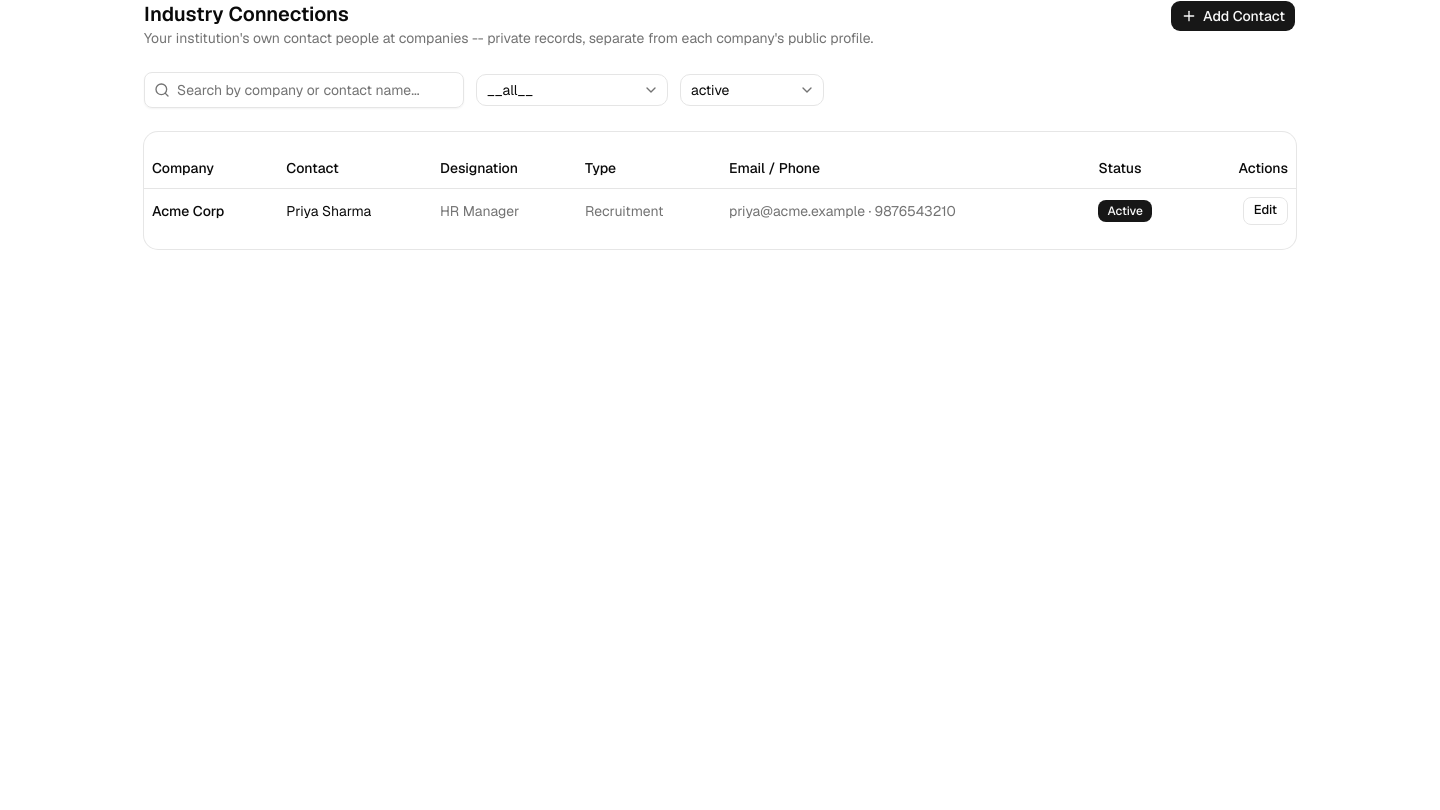
Test: IndustryConnectionsList › opens the edit form for an existing connection
Expected: the text "Priya Sharma" is shown, [278, 188, 432, 232]
Click the button "Edit". click: (1265, 210)
box: [1243, 196, 1288, 224]
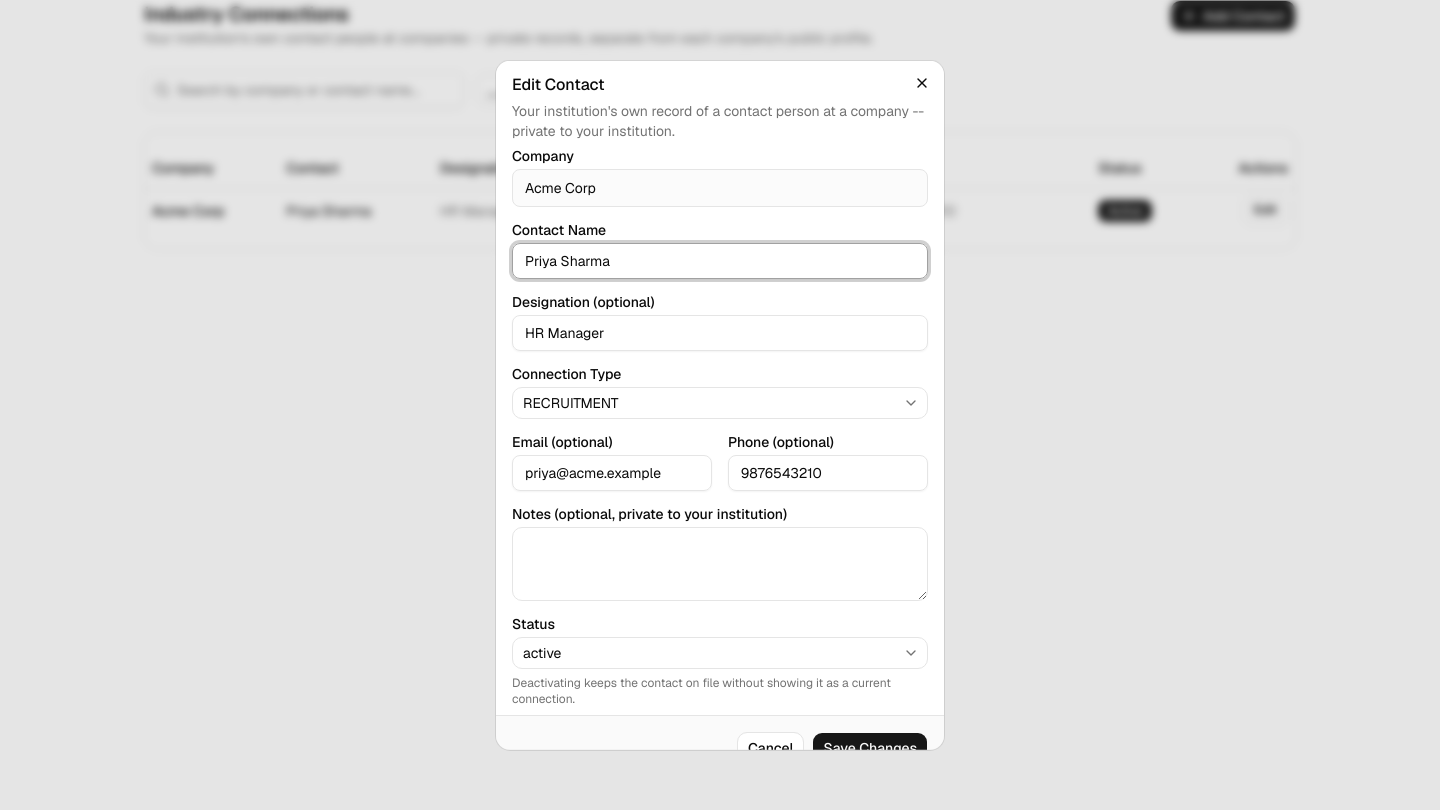
Expected: the text "Acme Corp" is shown, [512, 169, 928, 207]
